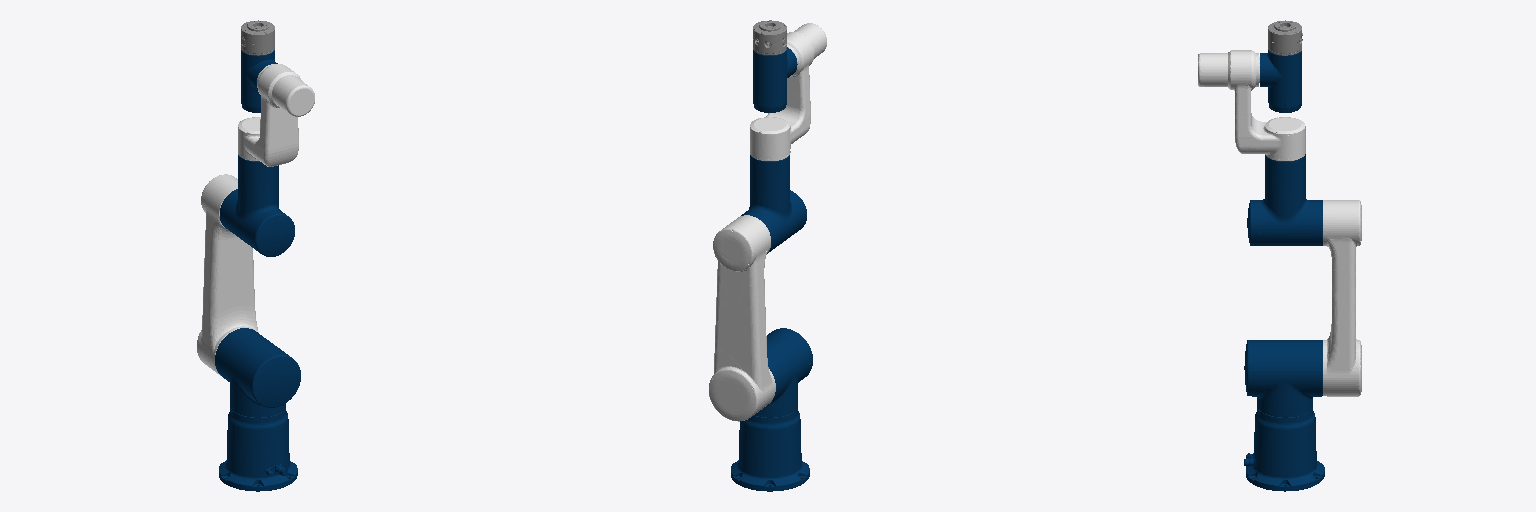
The robot description file, URDF, robot "yaro_1115":
<!-- generated by Phobos -->
<robot name="yaro_1115" version="1.0">
  <joint name="joint_1" type="revolute">
    <limit lower="-6.28318531" upper="6.28318531" effort="411.00000000" velocity="3.14159265"/>
    <origin rpy="0.00000000 0.00000000 0.00000000" xyz="0.00026931 0.00015548 0.21400000"/>
    <parent link="link_0"/>
    <child link="link_1"/>
    <axis xyz="0.00000000 0.00000000 1.00000000"/>
  </joint>
  <joint name="joint_2" type="revolute">
    <limit lower="-6.28318531" upper="6.28318531" effort="411.00000000" velocity="3.14159265"/>
    <origin rpy="-1.57079633 0.00000000 0.00000000" xyz="0.00000000 0.10310000 0.12850000"/>
    <parent link="link_1"/>
    <child link="link_2"/>
    <axis xyz="0.00000000 0.00000000 1.00000000"/>
  </joint>
  <joint name="joint_3" type="revolute">
    <limit lower="-2.61799388" upper="2.61799388" effort="194.00000000" velocity="4.18879020"/>
    <origin rpy="-3.14159265 0.00000000 0.00000000" xyz="0.00000000 -0.46500000 0.00290000"/>
    <parent link="link_2"/>
    <child link="link_3"/>
    <axis xyz="0.00000000 0.00000000 1.00000000"/>
  </joint>
  <joint name="joint_4" type="revolute">
    <limit lower="-6.28318531" upper="6.28318531" effort="102.00000000" velocity="8.37758041"/>
    <origin rpy="-1.57079633 0.00000000 0.00000000" xyz="0.00000000 0.21980000 0.10600000"/>
    <parent link="link_3"/>
    <child link="link_4"/>
    <axis xyz="0.00000000 0.00000000 1.00000000"/>
  </joint>
  <joint name="joint_5" type="revolute">
    <limit lower="-2.26892798" upper="2.26892798" effort="66.00000000" velocity="5.02654825"/>
    <origin rpy="-1.57079633 0.00000000 0.00000000" xyz="0.00000000 -0.08080000 0.27050000"/>
    <parent link="link_4"/>
    <child link="link_5"/>
    <axis xyz="0.00000000 0.00000000 1.00000000"/>
  </joint>
  <joint name="joint_6" type="revolute">
    <limit lower="-6.28318531" upper="6.28318531" effort="66.00000000" velocity="5.02654825"/>
    <origin rpy="1.57079633 0.00000000 0.00000000" xyz="0.00000000 -0.06280000 0.08080000"/>
    <parent link="link_5"/>
    <child link="link_6"/>
    <axis xyz="0.00000000 0.00000000 1.00000000"/>
  </joint>
  <joint name="ee_frame_joint" type="fixed">
    <origin rpy="0.00000000 0.00000000 0.00000000" xyz="-0.00000032 -0.00000071 0.08190000"/>
    <parent link="link_6"/>
    <child link="ee_frame"/>
  </joint>
  <link name="link_0">
    <collision name="collision_link_0">
      <origin rpy="0.0000000000 0.0000000000 0.0000000000" xyz="0.0000000000 0.0000000000 0.0000000000"/>
      <geometry>
        <mesh filename="../meshes/stl/link_0_yaro_1115.stl" scale="1.0000000000 1.0000000000 1.0000000000"/>
      </geometry>
    </collision>
    <inertial>
      <inertia ixx="0.0639430141" ixy="0.0000352630" ixz="-0.0000780218" iyy="0.0635608042" iyz="-0.0001483408" izz="0.0415244173"/>
      <origin rpy="0.0000000000 0.0000000000 0.0000000000" xyz="0.0001933212 0.0000478896 0.1282981321"/>
      <mass value="10.5386039448"/>
    </inertial>
    <visual name="visual_link_0">
      <material name="0c416cff"/>
      <origin rpy="0.0000000000 0.0000000000 0.0000000000" xyz="0.0000000000 0.0000000000 0.0000000000"/>
      <geometry>
        <mesh filename="../meshes/stl/link_0_yaro_1115.stl" scale="1.0000000000 1.0000000000 1.0000000000"/>
      </geometry>
    </visual>
  </link>
  <link name="link_1">
    <collision name="collision_link_1">
      <origin rpy="0.0000000000 0.0000000000 0.0000000000" xyz="0.0000000000 0.0000000000 0.0000000000"/>
      <geometry>
        <mesh filename="../meshes/stl/link_1_yaro_1115.stl" scale="1.0000000000 1.0000000000 1.0000000000"/>
      </geometry>
    </collision>
    <inertial>
      <inertia ixx="0.0432611741" ixy="0.0000434294" ixz="0.0000057454" iyy="0.0340733498" iyz="0.0022052697" izz="0.0417671666"/>
      <origin rpy="0.0000000000 0.0000000000 0.0000000000" xyz="0.0000654935 0.0272192381 0.1084465108"/>
      <mass value="10.4547830899"/>
    </inertial>
    <visual name="visual_link_1">
      <material name="0c416cff"/>
      <origin rpy="0.0000000000 0.0000000000 0.0000000000" xyz="0.0000000000 0.0000000000 0.0000000000"/>
      <geometry>
        <mesh filename="../meshes/stl/link_1_yaro_1115.stl" scale="1.0000000000 1.0000000000 1.0000000000"/>
      </geometry>
    </visual>
  </link>
  <link name="link_2">
    <collision name="collision_link_2">
      <origin rpy="0.0000000000 0.0000000000 0.0000000000" xyz="0.0000000000 0.0000000000 0.0000000000"/>
      <geometry>
        <mesh filename="../meshes/stl/link_2_yaro_1115.stl" scale="1.0000000000 1.0000000000 1.0000000000"/>
      </geometry>
    </collision>
    <inertial>
      <inertia ixx="0.1514397977" ixy="0.0000005232" ixz="-0.0000002058" iyy="0.0162525817" iyz="-0.0005245293" izz="0.1574814332"/>
      <origin rpy="0.0000000000 0.0000000000 0.0000000000" xyz="0.0000008741 -0.2045925850 0.0541897351"/>
      <mass value="4.8188070572"/>
    </inertial>
    <visual name="visual_link_2">
      <material name="e6e6e6ff"/>
      <origin rpy="0.0000000000 0.0000000000 0.0000000000" xyz="0.0000000000 0.0000000000 0.0000000000"/>
      <geometry>
        <mesh filename="../meshes/stl/link_2_yaro_1115.stl" scale="1.0000000000 1.0000000000 1.0000000000"/>
      </geometry>
    </visual>
  </link>
  <link name="link_3">
    <collision name="collision_link_3">
      <origin rpy="0.0000000000 0.0000000000 0.0000000000" xyz="0.0000000000 0.0000000000 0.0000000000"/>
      <geometry>
        <mesh filename="../meshes/stl/link_3_yaro_1115.stl" scale="1.0000000000 1.0000000000 1.0000000000"/>
      </geometry>
    </collision>
    <inertial>
      <inertia ixx="0.0856891916" ixy="-0.0000760928" ixz="0.0000830888" iyy="0.0254711572" iyz="-0.0132466058" izz="0.0754653686"/>
      <origin rpy="0.0000000000 0.0000000000 0.0000000000" xyz="-0.0002324766 0.0650449558 0.0822523226"/>
      <mass value="8.5868226291"/>
    </inertial>
    <visual name="visual_link_3">
      <material name="0c416cff"/>
      <origin rpy="0.0000000000 0.0000000000 0.0000000000" xyz="0.0000000000 0.0000000000 0.0000000000"/>
      <geometry>
        <mesh filename="../meshes/stl/link_3_yaro_1115.stl" scale="1.0000000000 1.0000000000 1.0000000000"/>
      </geometry>
    </visual>
  </link>
  <link name="link_4">
    <collision name="collision_link_4">
      <origin rpy="0.0000000000 0.0000000000 0.0000000000" xyz="0.0000000000 0.0000000000 0.0000000000"/>
      <geometry>
        <mesh filename="../meshes/stl/link_4_yaro_1115.stl" scale="1.0000000000 1.0000000000 1.0000000000"/>
      </geometry>
    </collision>
    <inertial>
      <inertia ixx="0.0561247150" ixy="0.0000403536" ixz="0.0000330912" iyy="0.0447211907" iyz="-0.0159263699" izz="0.0195557788"/>
      <origin rpy="0.0000000000 0.0000000000 0.0000000000" xyz="0.0001340992 -0.1020468523 0.1904441522"/>
      <mass value="4.3715862395"/>
    </inertial>
    <visual name="visual_link_4">
      <material name="eaeaeaff"/>
      <origin rpy="0.0000000000 0.0000000000 0.0000000000" xyz="0.0000000000 0.0000000000 0.0000000000"/>
      <geometry>
        <mesh filename="../meshes/stl/link_4_yaro_1115.stl" scale="1.0000000000 1.0000000000 1.0000000000"/>
      </geometry>
    </visual>
  </link>
  <link name="link_5">
    <collision name="collision_link_5">
      <origin rpy="0.0000000000 0.0000000000 0.0000000000" xyz="0.0000000000 0.0000000000 0.0000000000"/>
      <geometry>
        <mesh filename="../meshes/stl/link_5_yaro_1115.stl" scale="1.0000000000 1.0000000000 1.0000000000"/>
      </geometry>
    </collision>
    <inertial>
      <inertia ixx="0.0079457535" ixy="-0.0000301779" ixz="-0.0000045575" iyy="0.0039020283" iyz="-0.0000218878" izz="0.0076771650"/>
      <origin rpy="0.0000000000 0.0000000000 0.0000000000" xyz="-0.0001878118 -0.0008785447 0.0704124840"/>
      <mass value="3.1022175929"/>
    </inertial>
    <visual name="visual_link_5">
      <material name="0c416cff"/>
      <origin rpy="0.0000000000 0.0000000000 0.0000000000" xyz="0.0000000000 0.0000000000 0.0000000000"/>
      <geometry>
        <mesh filename="../meshes/stl/link_5_yaro_1115.stl" scale="1.0000000000 1.0000000000 1.0000000000"/>
      </geometry>
    </visual>
  </link>
  <link name="link_6">
    <collision name="collision_link_6">
      <origin rpy="0.0000000000 0.0000000000 0.0000000000" xyz="0.0000000000 0.0000000000 0.0000000000"/>
      <geometry>
        <mesh filename="../meshes/stl/link_6_yaro_1115.stl" scale="1.0000000000 1.0000000000 1.0000000000"/>
      </geometry>
    </collision>
    <inertial>
      <inertia ixx="0.0010442410" ixy="0.0000055644" ixz="-0.0000012676" iyy="0.0012944570" iyz="-0.0000086826" izz="0.0011405298"/>
      <origin rpy="0.0000000000 0.0000000000 0.0000000000" xyz="0.0001526243 0.0010986837 0.0402063698"/>
      <mass value="0.9629406653"/>
    </inertial>
    <visual name="visual_link_6">
      <material name="999999ff"/>
      <origin rpy="0.0000000000 0.0000000000 0.0000000000" xyz="0.0000000000 0.0000000000 0.0000000000"/>
      <geometry>
        <mesh filename="../meshes/stl/link_6_yaro_1115.stl" scale="1.0000000000 1.0000000000 1.0000000000"/>
      </geometry>
    </visual>
  </link>
  <link name="ee_frame"/>
  <material name="0c416cff">
    <color rgba="0.0470588235 0.2549019608 0.4235294118 1.00000000"/>
  </material>
  <material name="999999ff">
    <color rgba="0.60000000 0.60000000 0.60000000 1.00000000"/>
  </material>
  <material name="e6e6e6ff">
    <color rgba="0.9019607843 0.9019607843 0.9019607843 1.0000000000"/>
  </material>
  <material name="eaeaeaff">
    <color rgba="0.9176470588 0.9176470588 0.9176470588 1.00000000"/>
  </material>
</robot>

--- What the picture shows (computed from the rendered views, not written in the file) ---
The picture shows the robot from 3 angles, left to right: view 1: azimuth 30°, elevation 25°; view 2: azimuth 150°, elevation 25°; view 3: azimuth 270°, elevation 25°; orthographic projection.
Model yaro_1115 with 8 links and 7 joints (6 revolute, 1 fixed), rooted at link_0, posed all joints at 0.
Visible links, largest first — view 1: link_2, link_1, link_4, link_0, link_3, link_5, link_6; view 2: link_2, link_0, link_4, link_3, link_1, link_5, link_6; view 3: link_2, link_1, link_4, link_3, link_0, link_5, link_6.
Link boxes in pixels (x1=…): link_2: x1=197, y1=174, x2=258, y2=375; link_1: x1=215, y1=328, x2=300, y2=417; link_4: x1=238, y1=64, x2=314, y2=166; link_0: x1=219, y1=408, x2=297, y2=491; link_3: x1=220, y1=155, x2=294, y2=256; link_5: x1=241, y1=50, x2=277, y2=112; link_6: x1=241, y1=20, x2=274, y2=55; link_2: x1=709, y1=215, x2=775, y2=421; link_0: x1=731, y1=409, x2=809, y2=491; link_4: x1=750, y1=23, x2=826, y2=160; link_3: x1=741, y1=155, x2=806, y2=253; link_1: x1=754, y1=328, x2=812, y2=417; link_5: x1=753, y1=47, x2=797, y2=112; link_6: x1=753, y1=20, x2=786, y2=54; link_2: x1=1323, y1=200, x2=1361, y2=396; link_1: x1=1244, y1=340, x2=1322, y2=417; link_4: x1=1198, y1=50, x2=1305, y2=160; link_3: x1=1247, y1=154, x2=1322, y2=245; link_0: x1=1244, y1=408, x2=1324, y2=491; link_5: x1=1260, y1=50, x2=1301, y2=112; link_6: x1=1268, y1=20, x2=1302, y2=55.
Size in the robot's own frame: 0.2302 by 0.4768 by 1.44 metres.
7 mesh visuals loaded from 7 distinct referenced files (7 binary STL).
